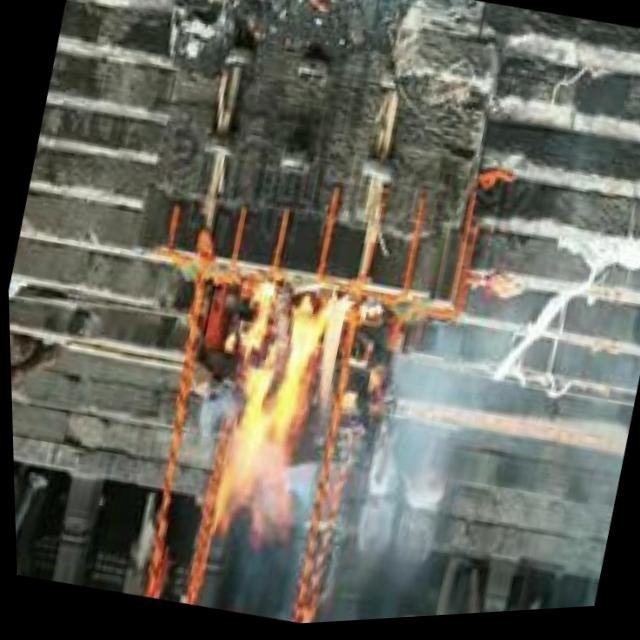Fire: (191, 279, 360, 545)
